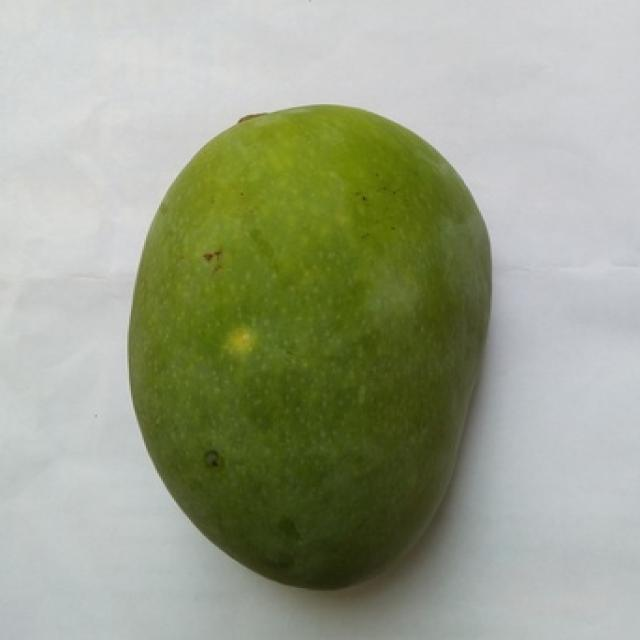Mango: (129, 107, 490, 588)
